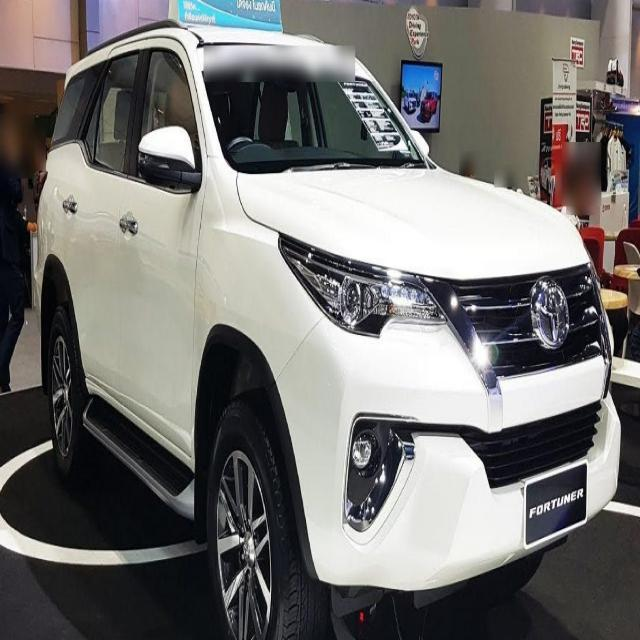back_glass: (48, 61, 108, 151)
back_right_door: (60, 37, 148, 394)
front_bumper: (266, 264, 622, 592)
front_glass: (200, 42, 436, 173)
front_right_door: (119, 36, 208, 456)
front_right_light: (278, 231, 448, 340)
hood: (237, 167, 594, 281)
right_mirror: (139, 126, 203, 191)
wheel: (48, 300, 330, 638)
